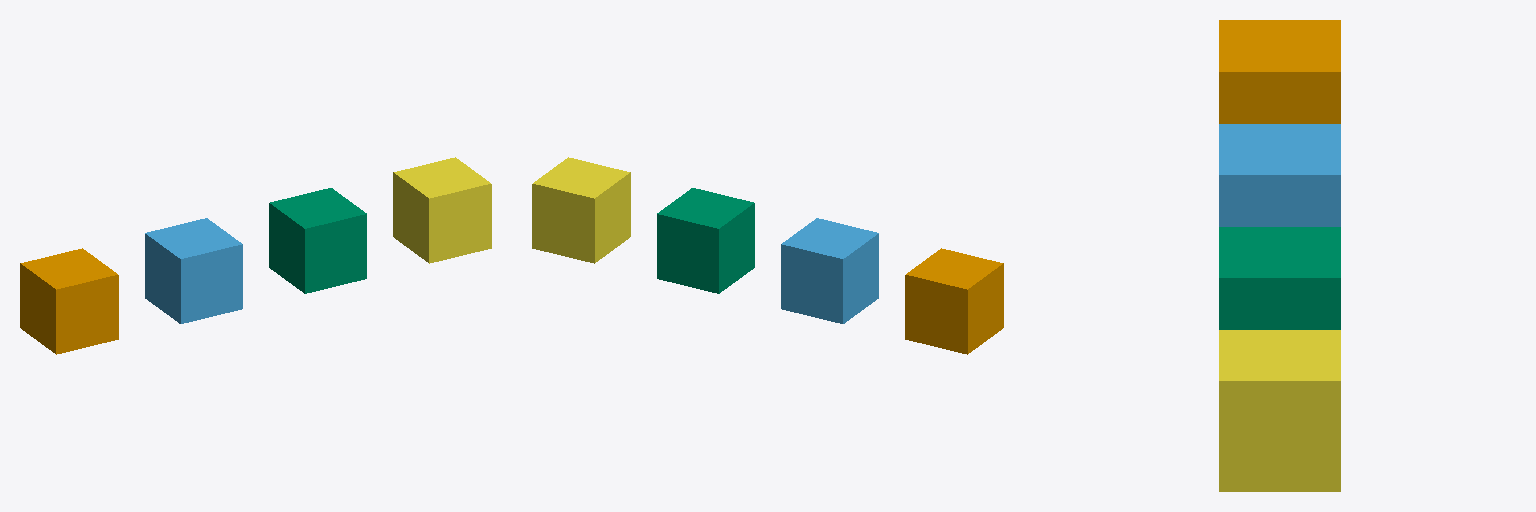
URDF robot description (material_mesh_texture):
<?xml version="1.0"?>
<robot name="material_mesh_texture">
  <link name="link_box">
    <visual>
      <geometry>
        <box size="0.5 0.5 0.5"/>
      </geometry>
    </visual>
  </link>
  <link name="link_obj">
    <visual>
      <geometry>
        <mesh filename="assets/box_with_texture.obj" scale="0.5 0.5 0.5"/>
      </geometry>
    </visual>
  </link>
  <link name="link_obj_opacity">
    <visual>
      <geometry>
        <mesh filename="assets/box_with_texture_opacity.obj" scale="0.5 0.5 0.5"/>
      </geometry>
    </visual>
  </link>
  <link name="link_obj_specular_workflow_with_texture">
    <visual>
      <geometry>
        <mesh filename="assets/box_specular_workflow_with_texture.obj" scale="0.5 0.5 0.5"/>
      </geometry>
    </visual>
  </link>

  <joint name="joint_box_obj" type="fixed">
    <origin rpy="0 0 0" xyz="1 0 0"/>
    <parent link="link_box"/>
    <child link="link_obj"/>
  </joint>
  <joint name="joint_box_obj_opacity" type="fixed">
    <origin rpy="0 0 0" xyz="1 0 0"/>
    <parent link="link_obj"/>
    <child link="link_obj_opacity"/>
  </joint>
  <joint name="joint_box_obj_specular_workflow_with_texture" type="fixed">
    <origin rpy="0 0 0" xyz="1 0 0"/>
    <parent link="link_obj_opacity"/>
    <child link="link_obj_specular_workflow_with_texture"/>
  </joint>
</robot>

--- What the picture shows (computed from the rendered views, not written in the file) ---
Views: 3 orthographic renders of the robot side by side, from view 1: azimuth 30°, elevation 25°; view 2: azimuth 150°, elevation 25°; view 3: azimuth 270°, elevation 25°.
Robot: material_mesh_texture — 4 links, 3 joints (3 fixed); root link link_box; default pose: every joint at zero.
Visible links, largest first — view 1: link_box, link_obj_specular_workflow_with_texture, link_obj, link_obj_opacity; view 2: link_box, link_obj_specular_workflow_with_texture, link_obj, link_obj_opacity; view 3: link_obj_specular_workflow_with_texture, link_box, link_obj, link_obj_opacity.
Boxes of the visible links, left/top/right/bottom form: link_box: left=20, top=248, right=118, bottom=354; link_obj_specular_workflow_with_texture: left=393, top=157, right=491, bottom=263; link_obj: left=145, top=218, right=242, bottom=323; link_obj_opacity: left=269, top=188, right=366, bottom=293; link_box: left=905, top=248, right=1003, bottom=354; link_obj_specular_workflow_with_texture: left=532, top=157, right=630, bottom=263; link_obj: left=781, top=218, right=878, bottom=323; link_obj_opacity: left=657, top=188, right=754, bottom=293; link_obj_specular_workflow_with_texture: left=1219, top=330, right=1340, bottom=491; link_box: left=1219, top=20, right=1340, bottom=123; link_obj: left=1219, top=124, right=1340, bottom=226; link_obj_opacity: left=1219, top=227, right=1340, bottom=329.
Bounding box of the posed robot: 3.5 × 0.5 × 0.5 m (x, y, z).
Meshes: 3 distinct files referenced, 3 mesh visuals loaded (3 OBJ).